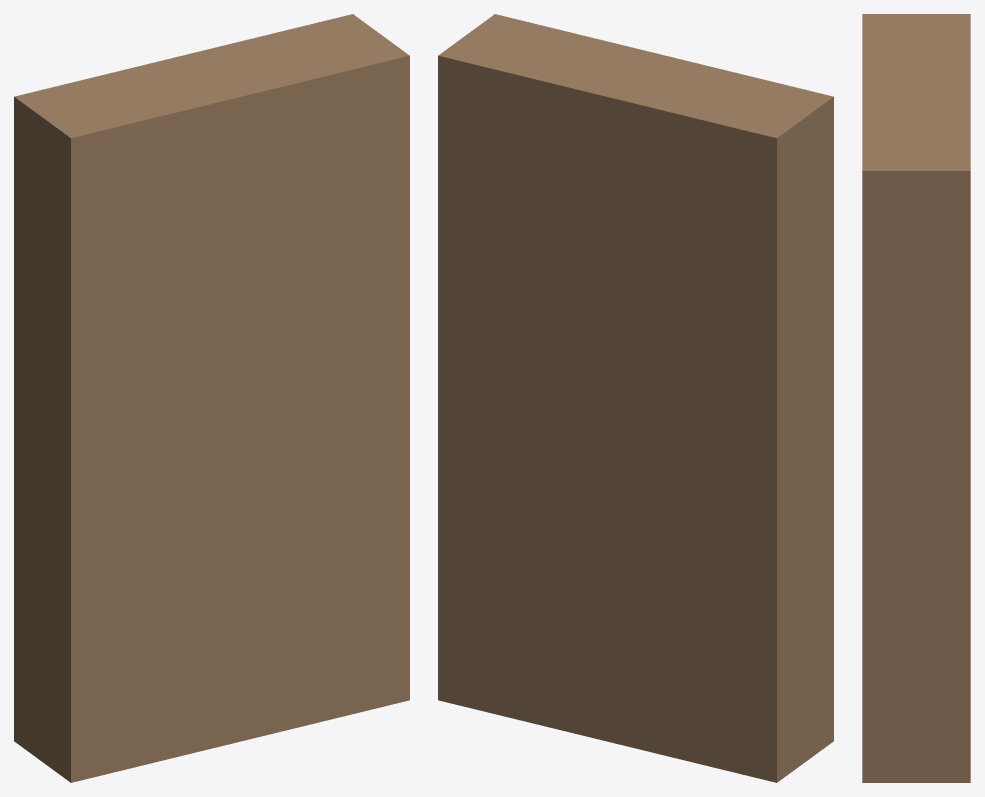
The model's file is bookshelf.glb.
3 renders of one model, left to right at view 1: azimuth 30°, elevation 25°; view 2: azimuth 150°, elevation 25°; view 3: azimuth 270°, elevation 25°, orthographic. The views are drawn at different scales.
Parts seen in each view (by area): view 1: Cube; view 2: Cube; view 3: Cube.
Boxes of the visible parts, x1,y1,x2,y2 form: Cube: [14, 14, 409, 782]; Cube: [438, 14, 833, 782]; Cube: [862, 14, 970, 782].
Bounding box in the file's own units: 1.1 × 2 × 0.32.
